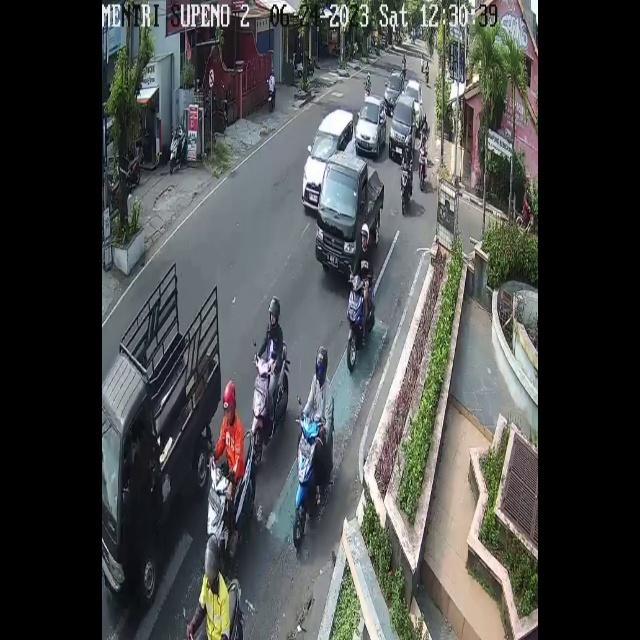bus: (205, 427, 259, 553), (292, 396, 336, 546), (251, 340, 290, 455), (348, 274, 377, 370), (514, 206, 536, 240), (398, 158, 411, 214), (419, 145, 427, 190)
motorcycle: (304, 108, 354, 216), (356, 94, 388, 154), (389, 94, 416, 162), (383, 67, 401, 108), (407, 79, 421, 128)
truck: (100, 329, 222, 609), (317, 152, 384, 272)
